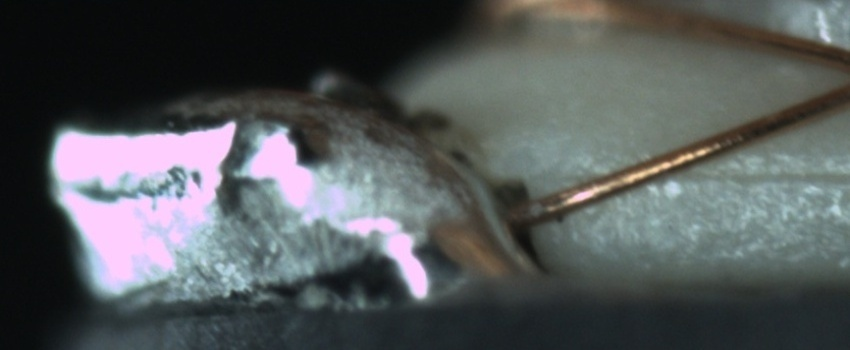DL: (619, 142, 850, 210)
